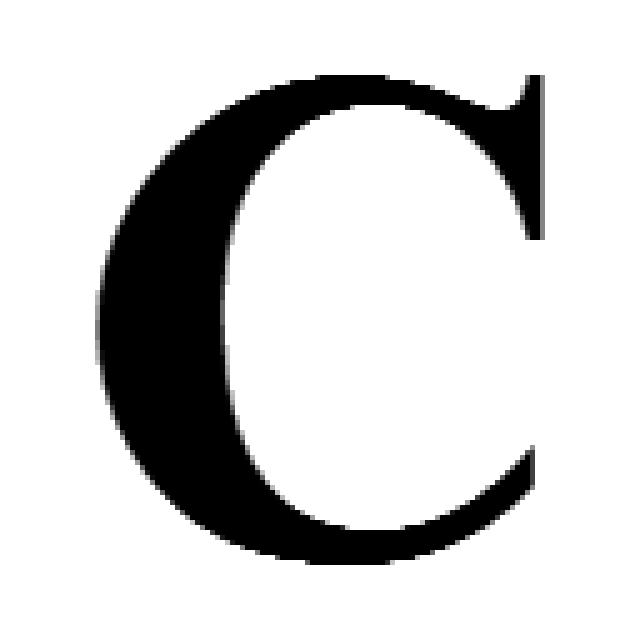C: (95, 75, 550, 570)
